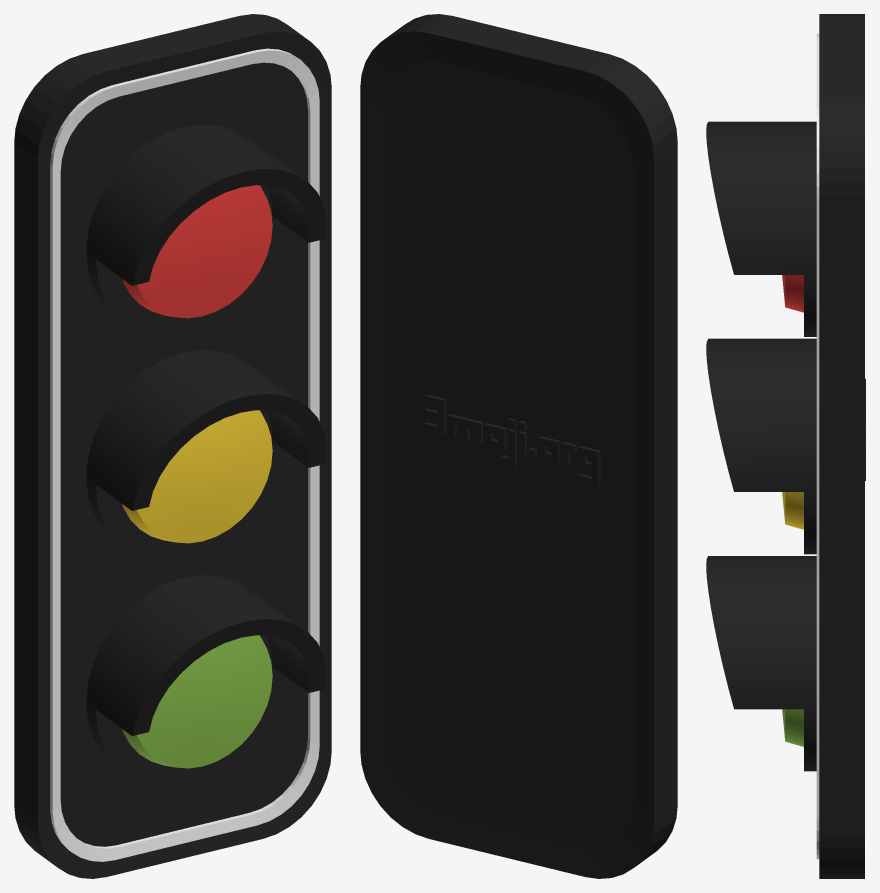
Rendered from vertical_traffic_light.glb.
The picture shows the model from 3 angles, left to right: view 1: azimuth 30°, elevation 25°; view 2: azimuth 150°, elevation 25°; view 3: azimuth 270°, elevation 25°; orthographic projection. The views are drawn at different scales.
Parts seen in each view (by area): view 1: Cube.759; view 2: Cube.759; view 3: Cube.759.
Boxes of the visible parts, x1,y1,x2,y2 form: Cube.759: [14, 14, 331, 878]; Cube.759: [360, 14, 677, 878]; Cube.759: [706, 14, 865, 878].
Size of the model in its own units: 0.902 by 2.36 by 0.4399.
1 material, 1 textured.
